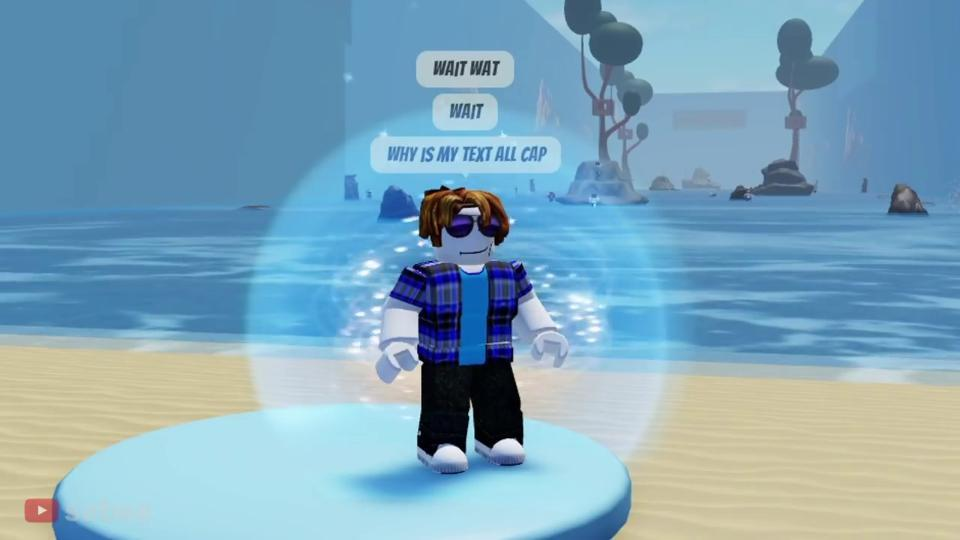Character: (375, 185, 568, 473)
